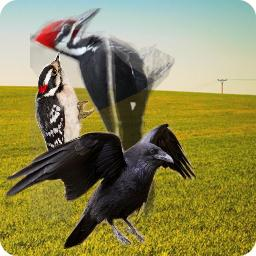Crow: (3, 122, 197, 249)
Woodpecker: (30, 8, 175, 220), (35, 52, 94, 179)
